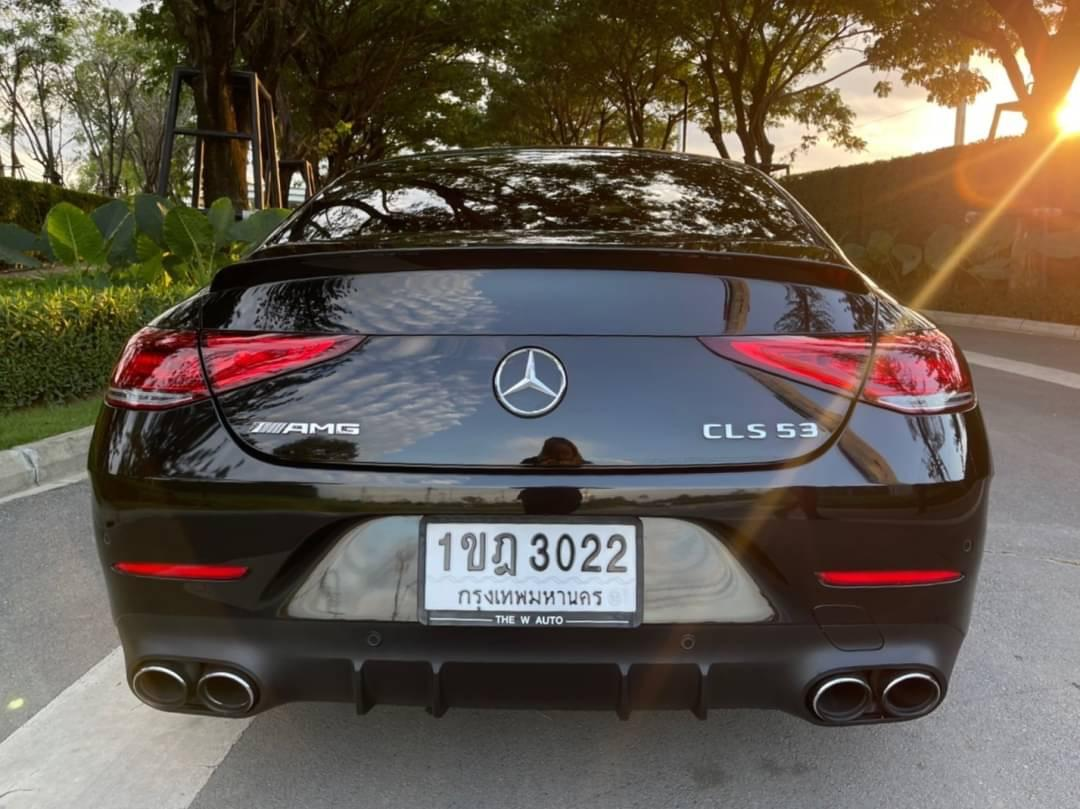license-plate: (423, 509, 642, 630)
